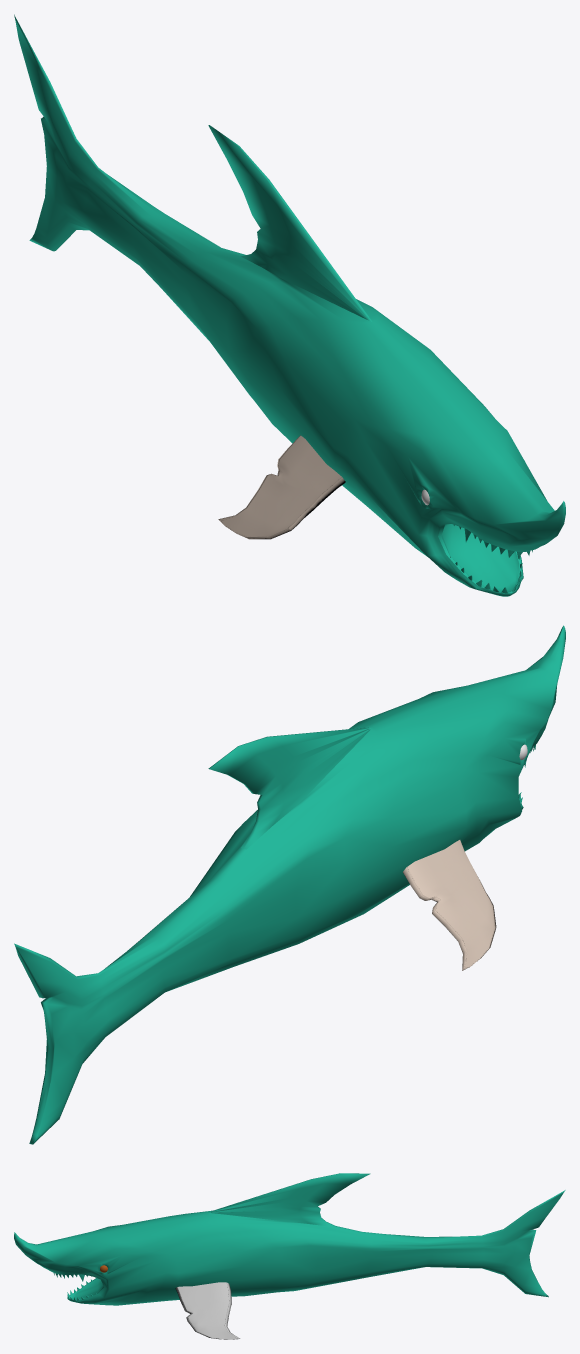
The model's file is SharkDamageState_Model_FBX_V02.fbx.
3 renders of one model, top to bottom at view 1: azimuth 30°, elevation 25°; view 2: azimuth 150°, elevation 25°; view 3: azimuth 270°, elevation 25°, orthographic. The views are drawn at different scales.
Parts seen in each view (by area): view 1: Shark, Right Fin; view 2: Shark, Right Fin; view 3: Shark, Left Fin.
Boxes of the visible parts, <box> form: Shark: <box>14,14,565,596</box>; Right Fin: <box>218,435,345,539</box>; Shark: <box>14,625,565,1144</box>; Right Fin: <box>403,840,496,970</box>; Shark: <box>14,1173,565,1305</box>; Left Fin: <box>175,1282,239,1339</box>.
Size of the model in its own units: 74.83 by 78.49 by 288.
4 materials, 2 textured.
